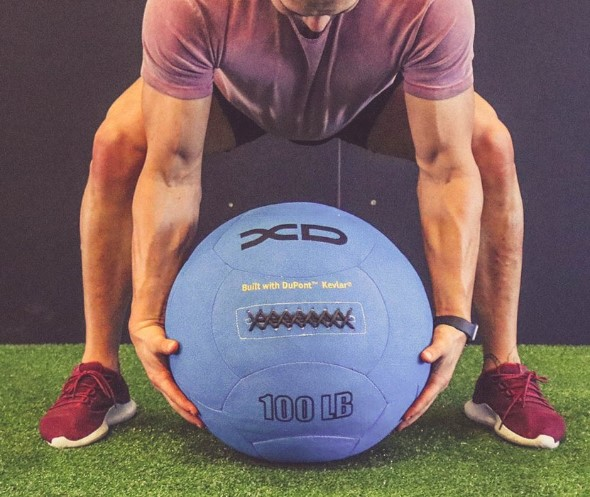blue ball: (161, 200, 435, 461)
